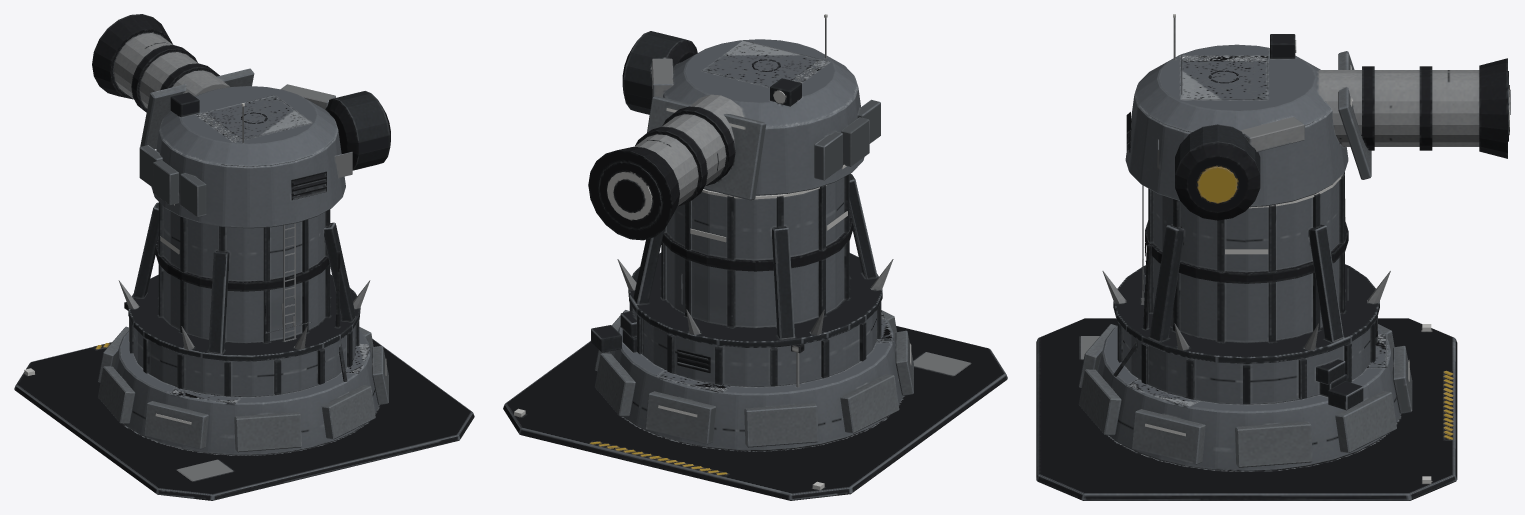
The model's file is chs_maw.fbx.
3 renders of one model, left to right at view 1: azimuth 30°, elevation 25°; view 2: azimuth 150°, elevation 25°; view 3: azimuth 270°, elevation 25°, orthographic. The views are drawn at different scales.
Visible parts, largest first — view 1: base_bar, turret_bar; view 2: base_bar, turret_bar, turret_glow_weapon_bar, base_glow_running_bar; view 3: base_bar, turret_bar, base_glow_running_bar.
Part boxes in pixels (x1,y1,x2,y2): base_bar: (14,202,474,500); turret_bar: (92,14,390,228); base_bar: (503,174,1007,500); turret_bar: (588,18,880,240); turret_glow_weapon_bar: (607,171,652,219); base_glow_running_bar: (514,211,911,490); base_bar: (1036,172,1457,500); turret_bar: (1125,17,1510,220); base_glow_running_bar: (1145,198,1431,483).
Size of the model in its own units: 2336 by 2523 by 2633.
2 materials, 2 textured.
